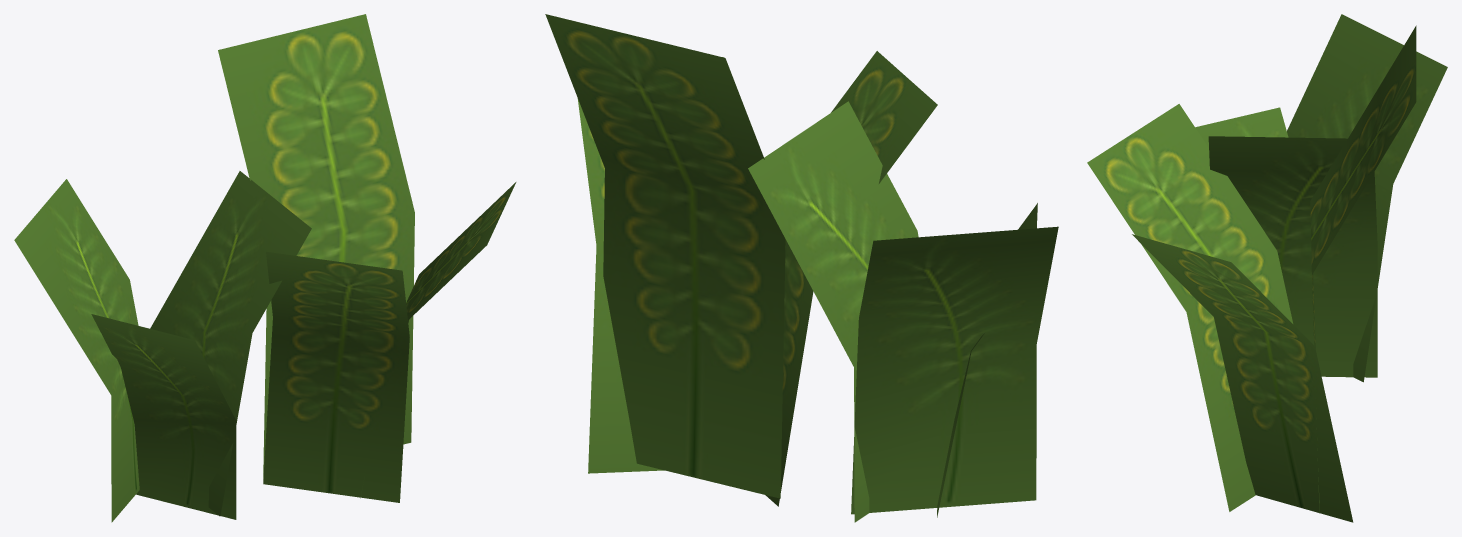
File: p_cao.fbx
3 views of the same model, side by side, from view 1: azimuth 30°, elevation 25°; view 2: azimuth 150°, elevation 25°; view 3: azimuth 270°, elevation 25° (orthographic). The views are drawn at different scales.
Visible parts, largest first — view 1: p_cao; view 2: p_cao; view 3: p_cao.
Boxes of the visible parts, x1,y1,x2,y2 form: p_cao: (14, 14, 516, 522); p_cao: (545, 14, 1058, 522); p_cao: (1087, 14, 1447, 522).
Size of the model in its own units: 211 by 184 by 137.
Materials: 1 (1 with a texture image).
